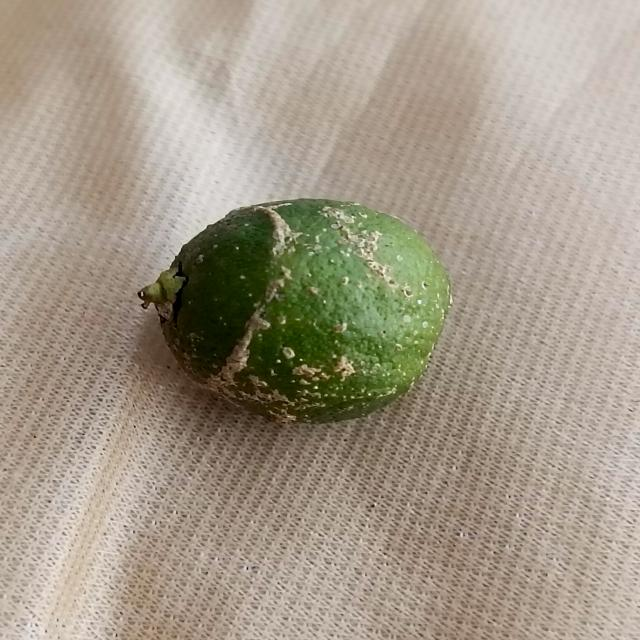scab: (149, 194, 454, 433)
